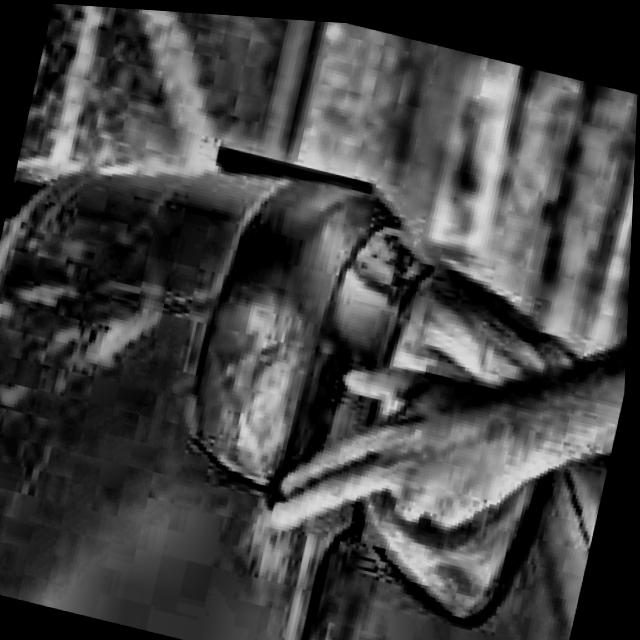bumper_scratch: (233, 490, 328, 588)
